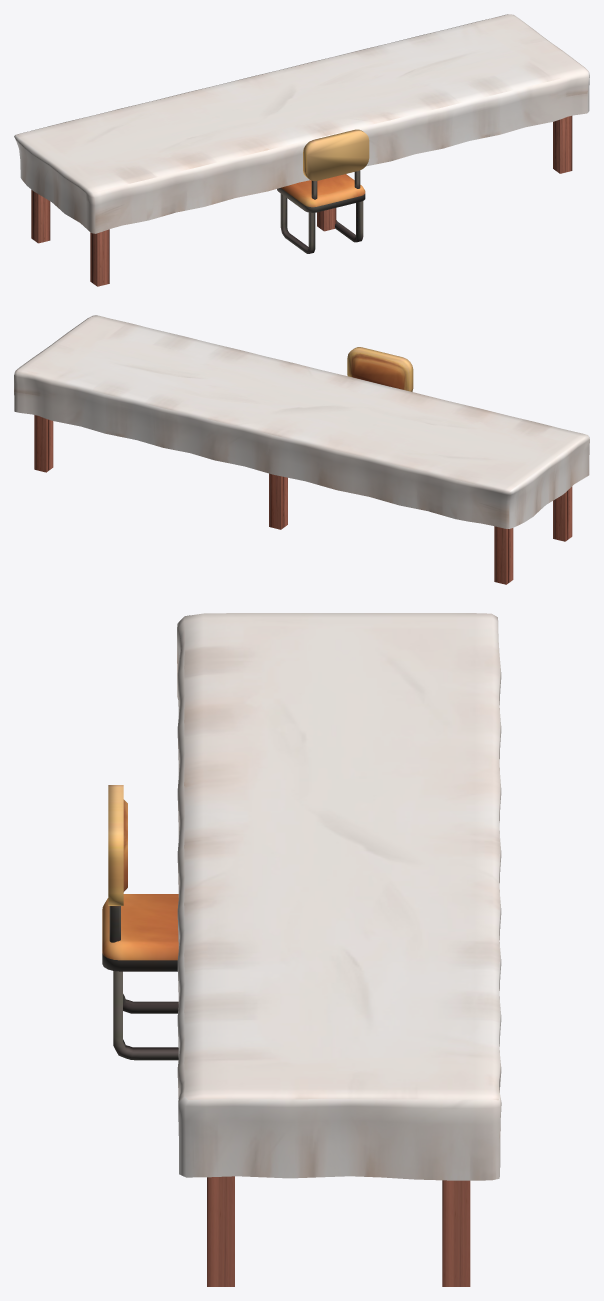
Rendered from Table.fbx.
3 views of the same model, one above another, from view 1: azimuth 30°, elevation 25°; view 2: azimuth 150°, elevation 25°; view 3: azimuth 270°, elevation 25° (orthographic). The views are drawn at different scales.
Visible parts, largest first — view 1: Cube, Plane.016; view 2: Cube, Plane.016; view 3: Cube, Plane.016.
Part boxes in pixels (x1,y1,x2,y2): Cube: [14, 14, 589, 286]; Plane.016: [277, 129, 369, 253]; Cube: [14, 315, 589, 584]; Plane.016: [347, 347, 413, 391]; Cube: [177, 613, 501, 1286]; Plane.016: [102, 785, 178, 1060].
Size of the model in its own units: 258 by 56.32 by 89.37.
